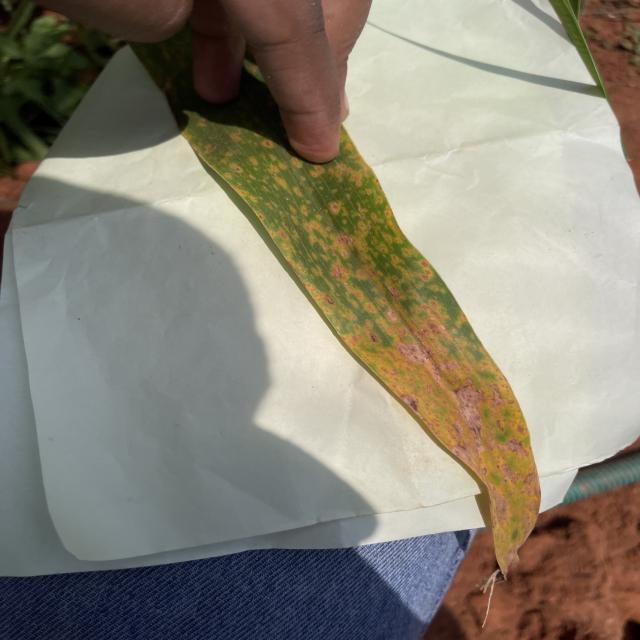millet_rust: (132, 33, 540, 560)
